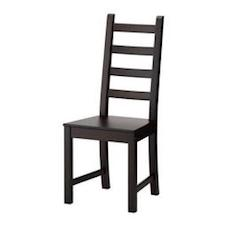chair: (66, 0, 179, 215)
